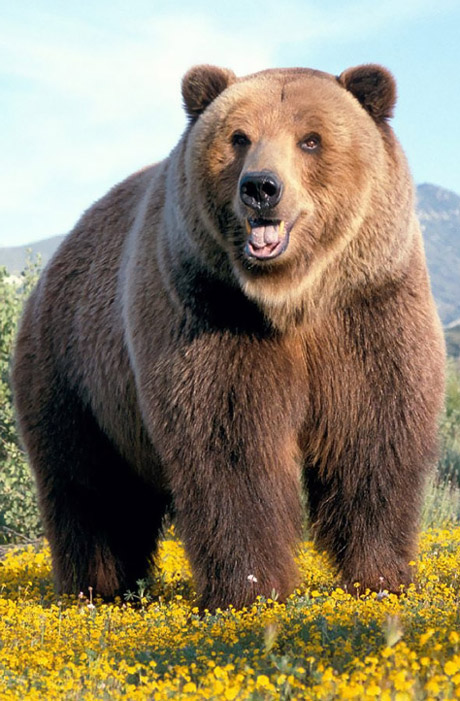bear: (167, 49, 398, 270)
